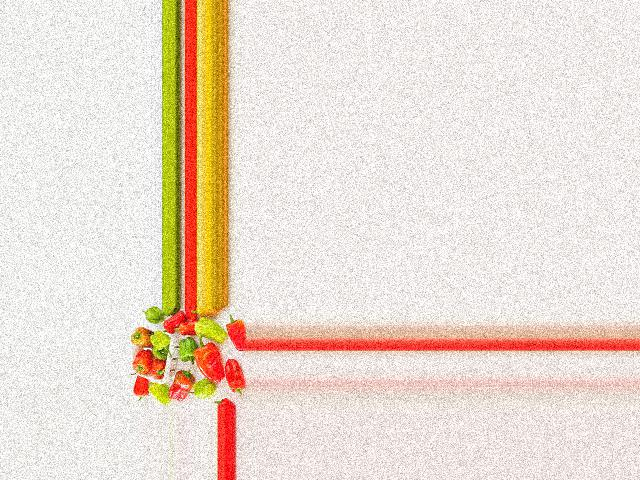bell_pepper: (223, 313, 246, 346)
